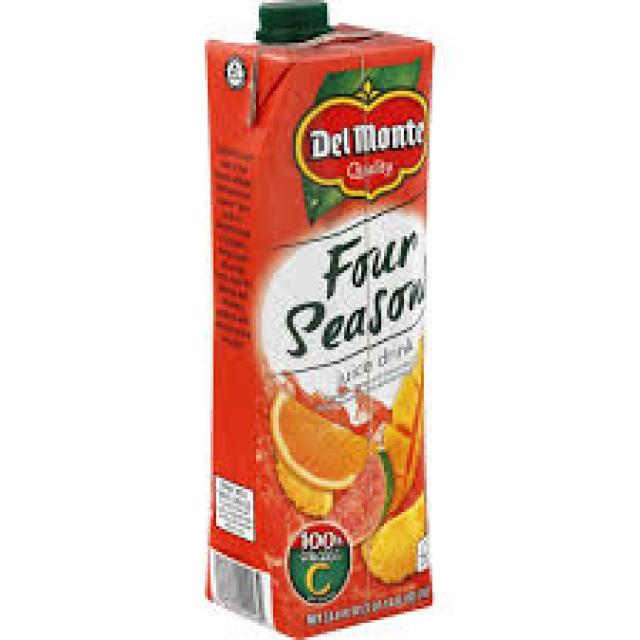non_white_jug: (190, 2, 472, 618)
